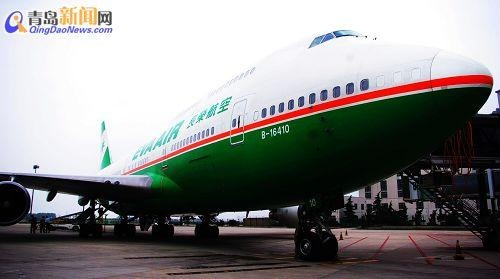airplane: (4, 27, 497, 238)
